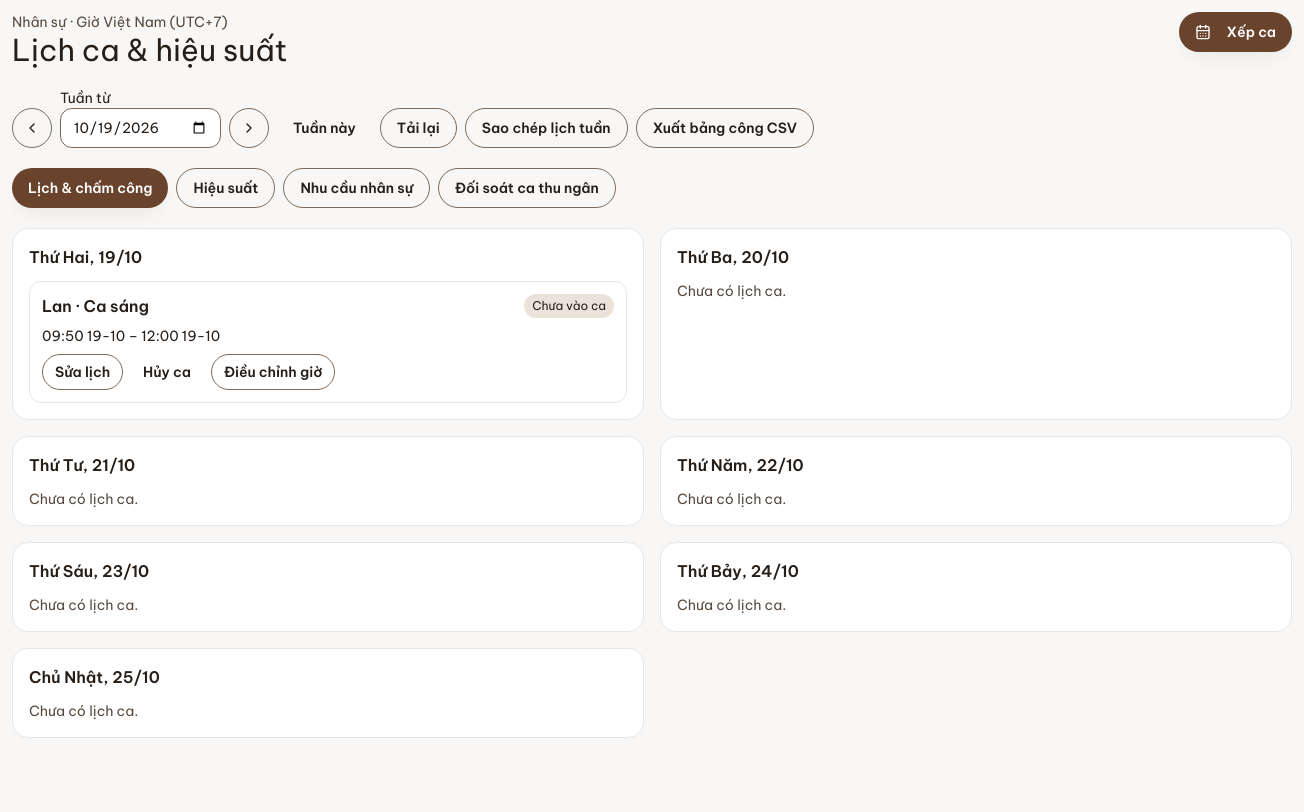
it: workforce UI › shows closed cash shift evidence separately from employee performance
The image size is (1304, 812).
Expected: the heading "Lan · Ca sáng" is shown, [42,294,149,318]
Click the button "Đối soát ca thu ngân". click: (527, 188)
box: [438,168,616,208]
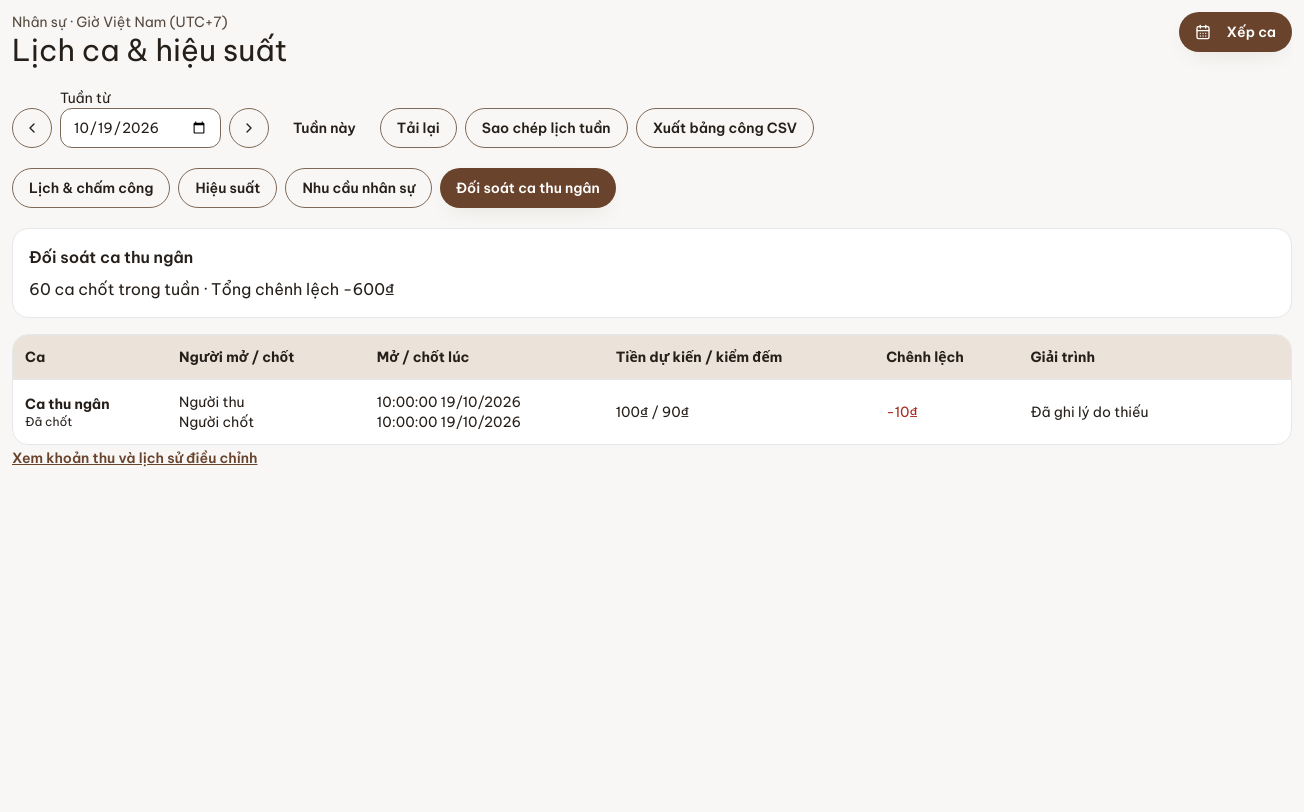
Expected: the text "Người thu" shows "Người chốt", [179,413,254,431]
Expected: the text "Đã ghi lý do thiếu" is shown, [1018,380,1291,444]
Expected: the text "60 ca chốt trong tuần · Tổng chênh lệch -600₫" is shown, [29,279,394,299]
